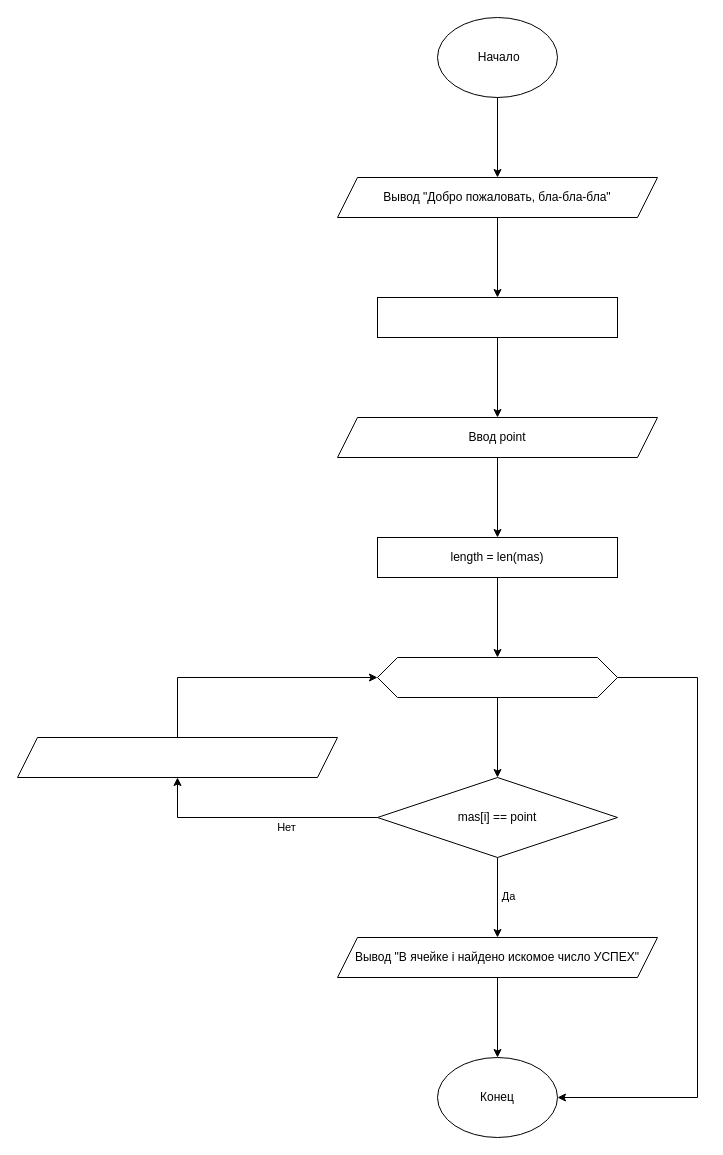
This 723x1155 diagram has some shape labels left out. Each missing label, with the centre of its shape:
i = 0; length; 1: (x=497, y=677)
mas = [ 3, 5, 67, -65, 34, 21 ]: (x=497, y=317)
Вывод "В ячейке i НЕ найдено искомое число": (x=177, y=757)
